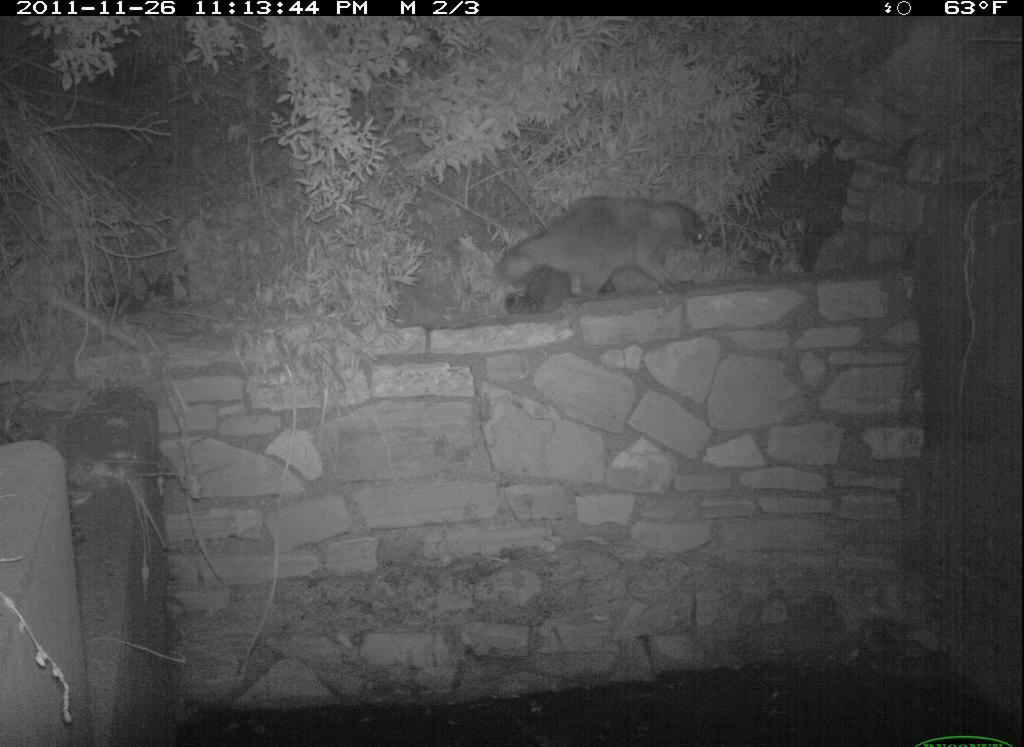raccoon: (492, 188, 725, 316)
